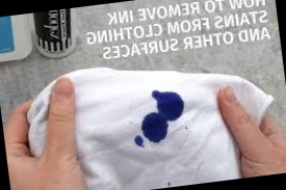ink: (152, 87, 185, 123), (140, 113, 169, 142), (135, 134, 143, 148)
